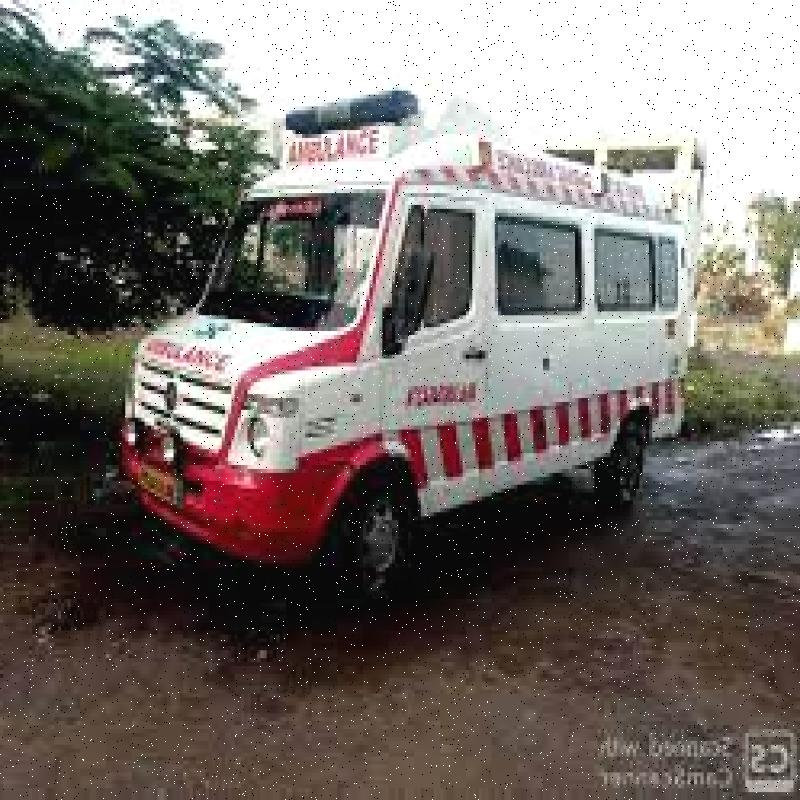ambulance: (164, 129, 675, 593)
